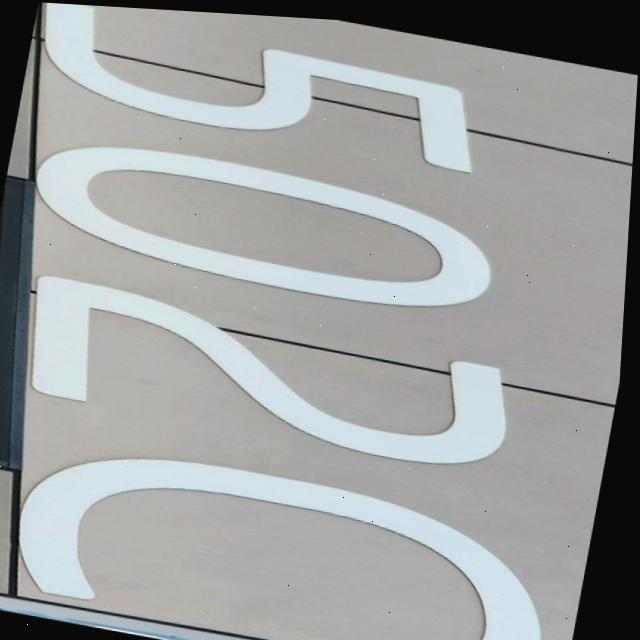character: (0, 426, 572, 640), (7, 269, 525, 483), (10, 123, 512, 330), (19, 2, 499, 180)
